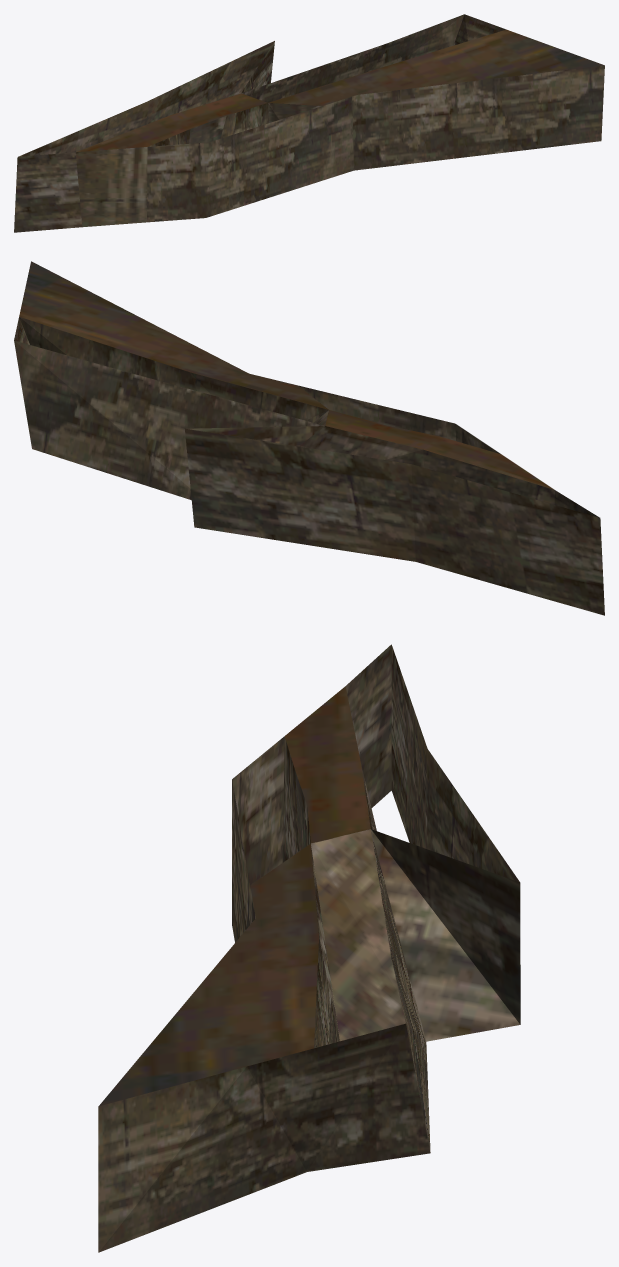
Rendered from juqing_fuben_395_chuan_door_01.obj.
3 renders of one model, top to bottom at view 1: azimuth 30°, elevation 25°; view 2: azimuth 150°, elevation 25°; view 3: azimuth 270°, elevation 25°, orthographic. The views are drawn at different scales.
Visible parts, largest first — view 1: juqing_fu3, juqing_fu1, juqing_fu2, juqing_fu4, juqing_fub; view 2: juqing_fu2, juqing_fub, juqing_fu3, juqing_fu4, juqing_fu1; view 3: juqing_fu3, juqing_fu2, juqing_fu4, juqing_fub, juqing_fu1.
Boxes of the visible parts, x1,y1,x2,y2 form: juqing_fu3: (268, 29, 604, 181); juqing_fu1: (147, 103, 322, 222); juqing_fu2: (14, 41, 274, 232); juqing_fu4: (75, 93, 267, 227); juqing_fub: (241, 14, 505, 102); juqing_fu2: (185, 426, 604, 615); juqing_fub: (14, 317, 328, 499); juqing_fu3: (19, 261, 328, 420); juqing_fu4: (314, 410, 554, 489); juqing_fu1: (298, 385, 500, 453); juqing_fu3: (98, 843, 339, 1252); juqing_fu2: (345, 644, 520, 1041); juqing_fu4: (284, 686, 405, 1041); juqing_fub: (307, 829, 430, 1171); juqing_fu1: (232, 736, 310, 942).
Bounding box in the file's own units: 291 × 56.45 × 103.
Materials: 2 (2 with a texture image).
